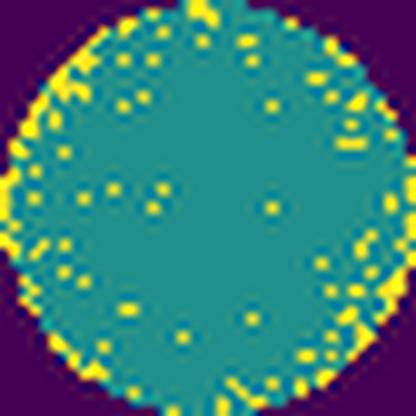Edge-Loc: (7, 26, 112, 158), (376, 243, 415, 326), (0, 164, 25, 234), (344, 323, 376, 366), (186, 0, 218, 29)
